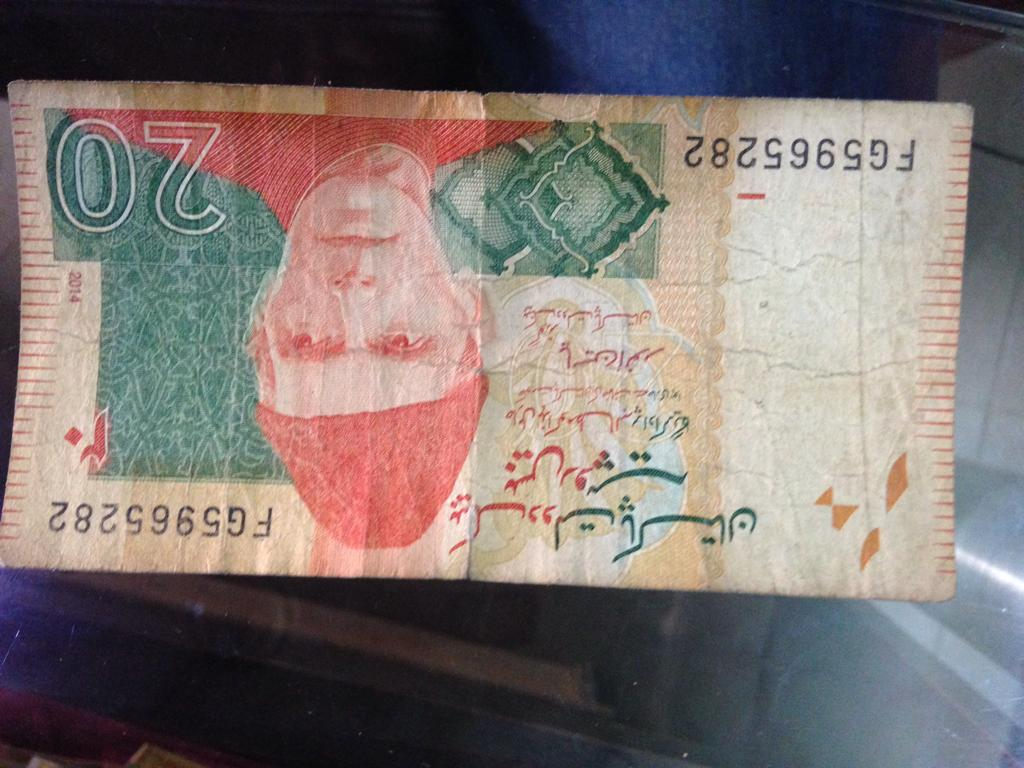20 rupee: (7, 64, 1005, 621)
